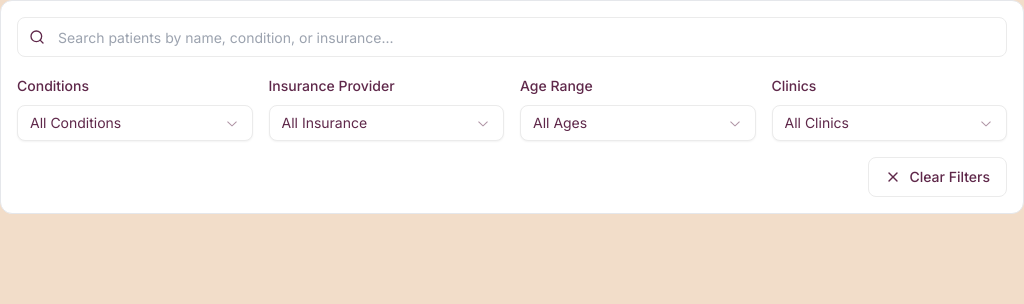
Test: PatientSearchFilter › should display filter options based on available patient data
# Check that condition options are populated from patient data
Click the dropdown labelled "All Conditions" at (135, 123), box [17, 105, 252, 141]
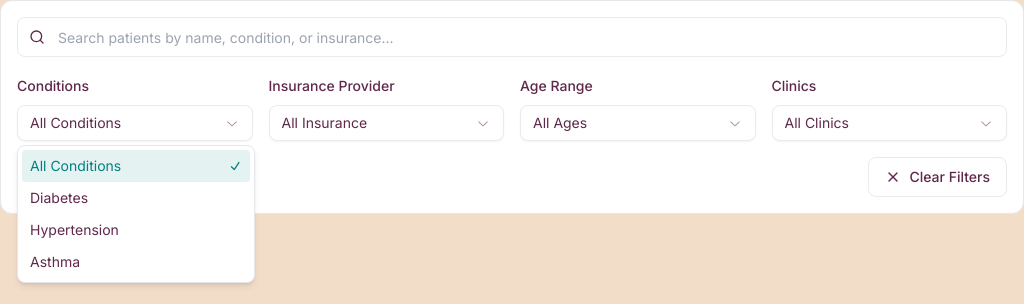
Now the text "Diabetes" is shown, box [30, 188, 88, 208]
Now the text "Hypertension" is shown, box [30, 220, 119, 240]
Now the text "Asthma" is shown, box [30, 252, 80, 272]
